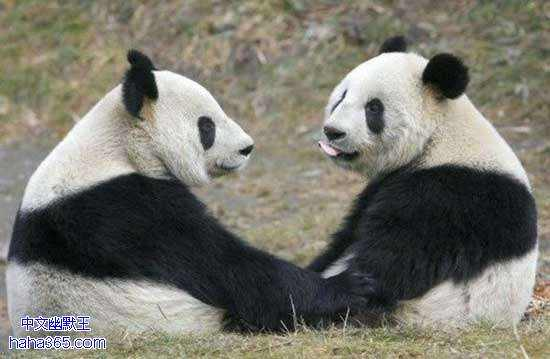panda: (1, 42, 350, 340), (314, 47, 539, 331)
